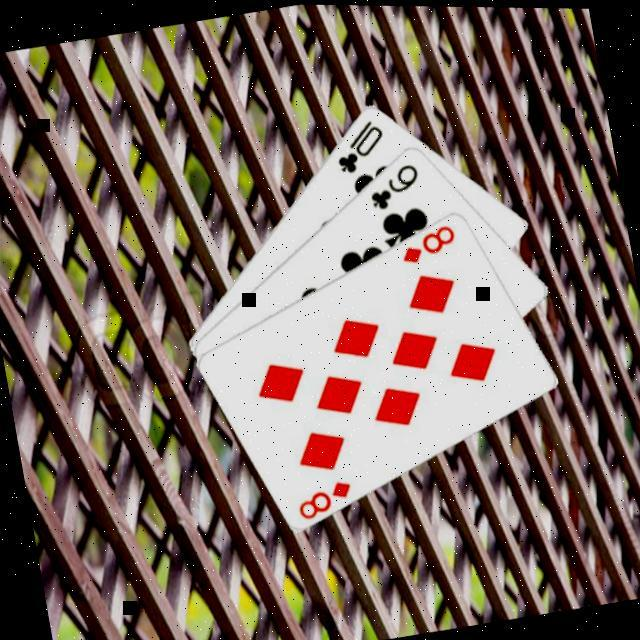10C: (324, 111, 390, 176)
8D: (392, 216, 459, 266), (288, 472, 356, 520)
9C: (359, 155, 424, 212)
